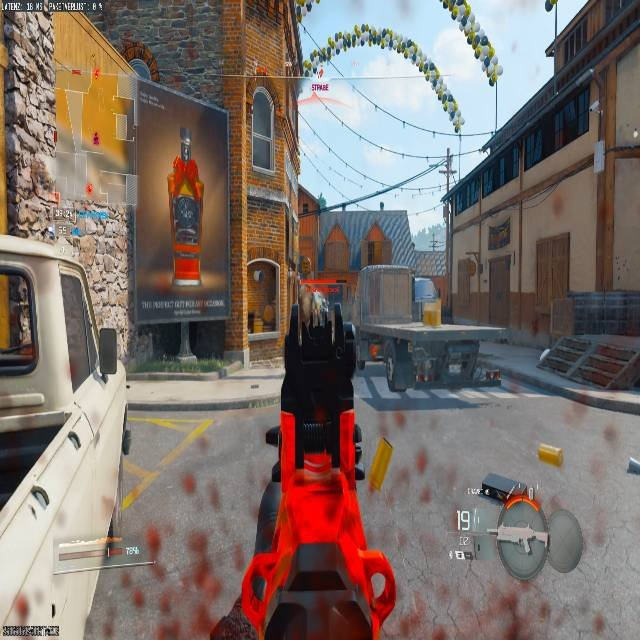player: (317, 296, 336, 325), (311, 290, 326, 325)
